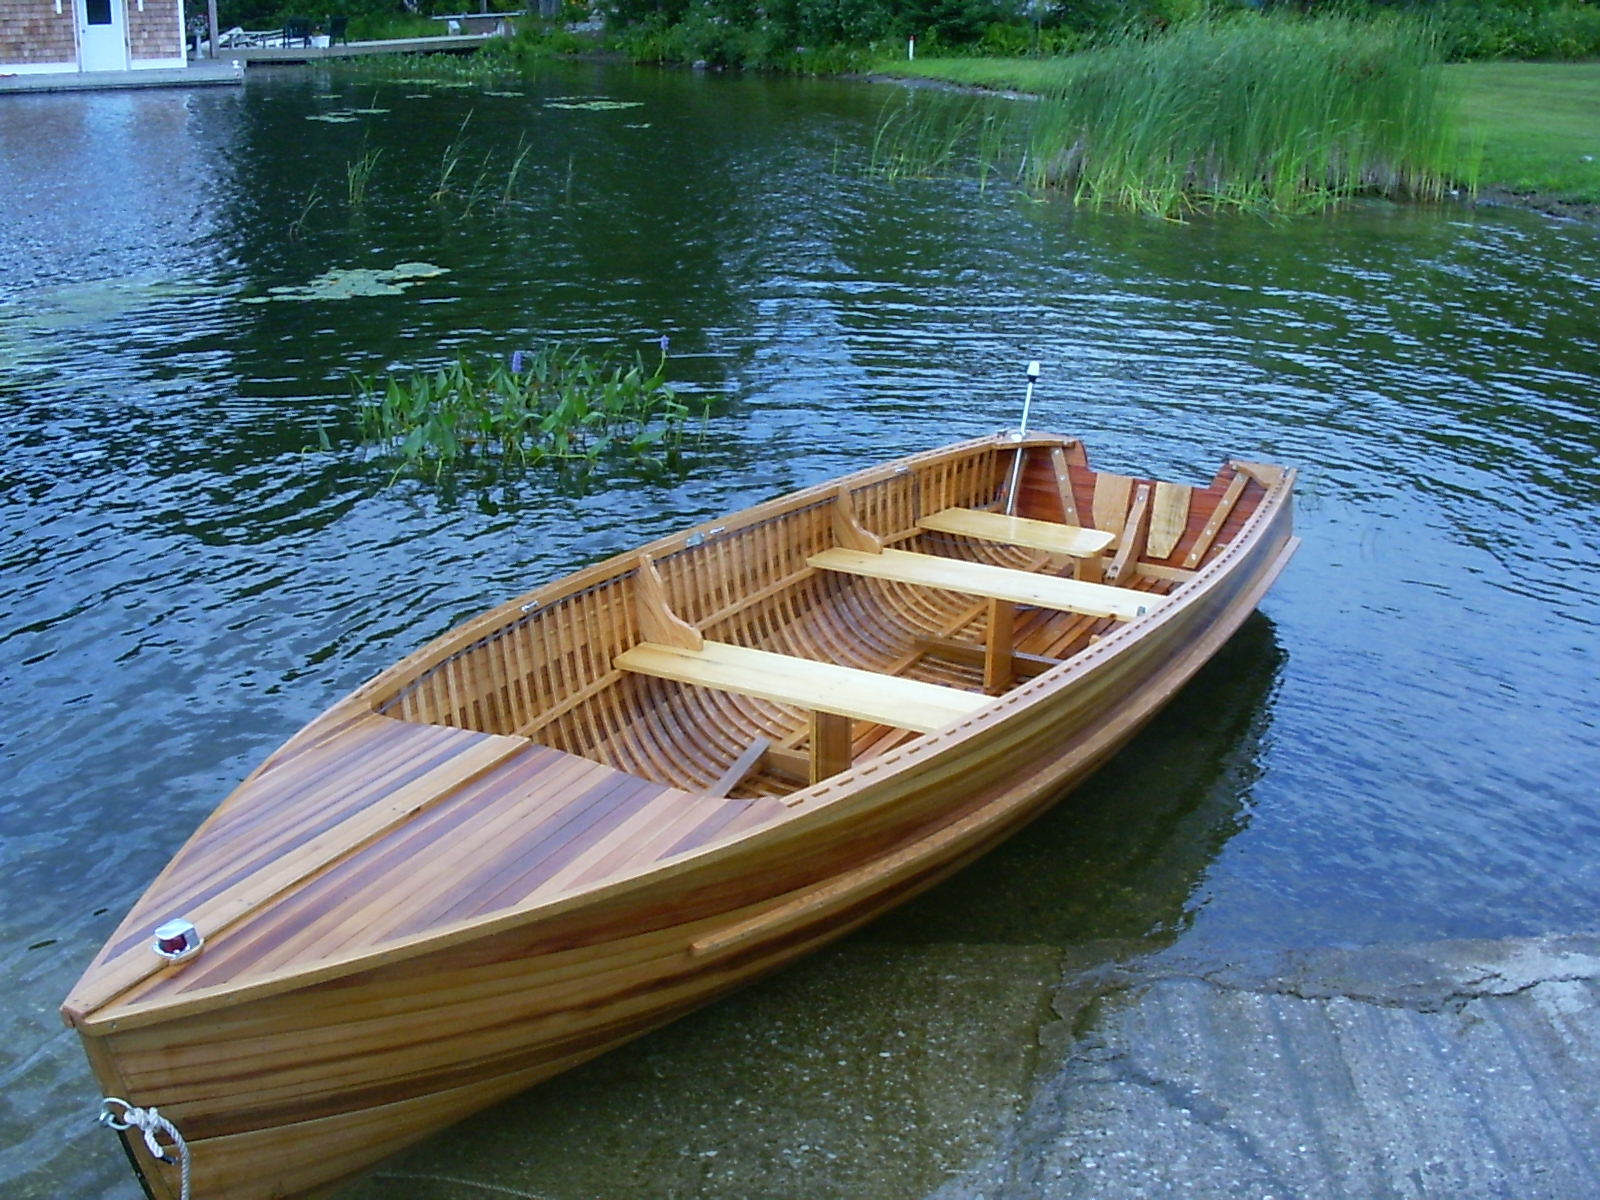boat: (43, 350, 1300, 1200)
